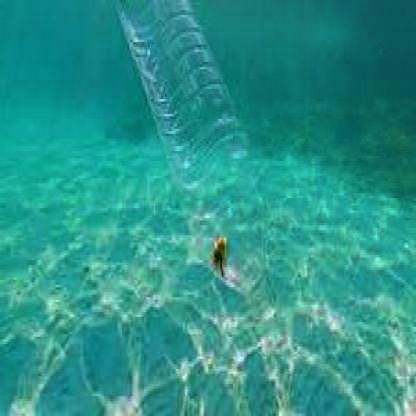pbottle: (111, 2, 287, 322)
